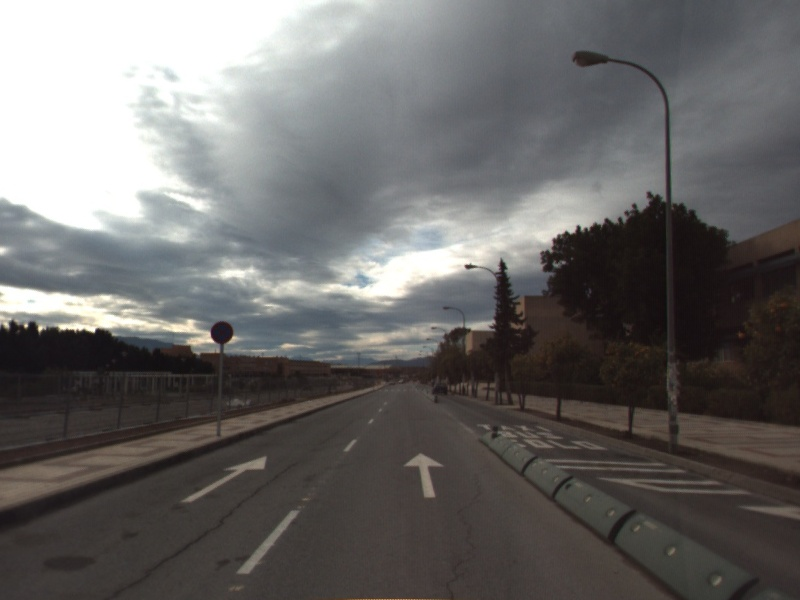STRAIGHT: (178, 454, 269, 505), (401, 451, 447, 499)
